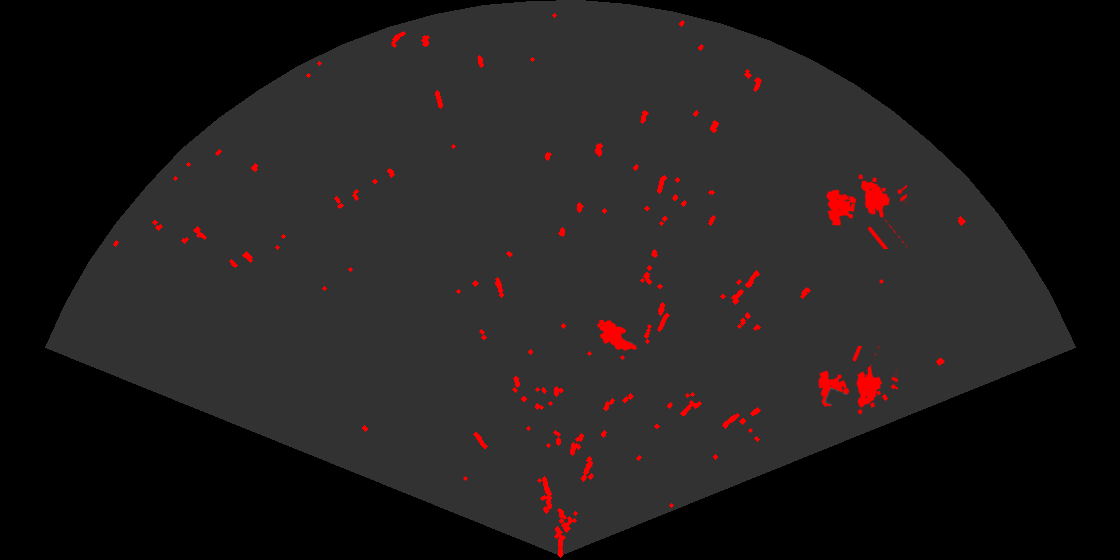AUV: (595, 318, 639, 352)
cage: (825, 173, 907, 249), (816, 346, 898, 416)
